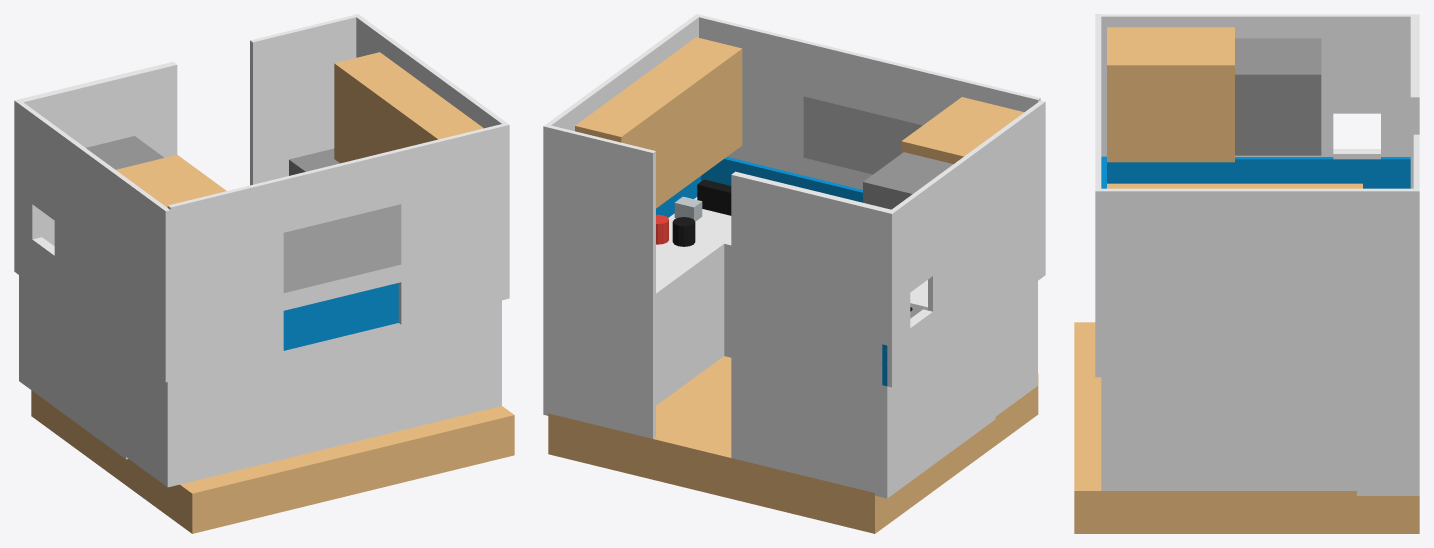
The picture shows the model from 3 angles, left to right: view 1: azimuth 30°, elevation 25°; view 2: azimuth 150°, elevation 25°; view 3: azimuth 270°, elevation 25°; orthographic projection. The views are drawn at different scales.
Parts seen in each view (by area): view 1: mesh_1779700656, mesh_645114721, mesh_1238082690, mesh_2061451972, mesh_806819140, mesh_1838078338, mesh_509994452, mesh_1269579336, mesh_1562205817, mesh_1730671391, mesh_1701763059, mesh_2054349031 (+10 smaller); view 2: mesh_1838078338, mesh_645114721, mesh_509994452, mesh_1238082690, mesh_1701763059, mesh_2054349031, mesh_1269579336, mesh_806819140, mesh_484121993, mesh_1779700656, mesh_1730671391, mesh_1562205817 (+12 smaller); view 3: mesh_922400031, mesh_645114721, mesh_363455281, mesh_484121993, mesh_1165904426, mesh_1779700656, mesh_161882219, mesh_624962709, mesh_2092229191, mesh_1238082690, mesh_806819140, mesh_1269579336 (+6 smaller).
Part boxes in pixels (left/top/right/bottom): mesh_1779700656: left=120, top=300, right=501, bottom=487; mesh_645114721: left=31, top=390, right=514, bottom=533; mesh_1238082690: left=54, top=128, right=170, bottom=382; mesh_2061451972: left=167, top=178, right=283, bottom=380; mesh_806819140: left=398, top=123, right=509, bottom=324; mesh_1838078338: left=250, top=15, right=356, bottom=185; mesh_509994452: left=19, top=275, right=128, bottom=459; mesh_1269579336: left=334, top=52, right=483, bottom=163; mesh_1562205817: left=283, top=204, right=401, bottom=292; mesh_1730671391: left=281, top=149, right=401, bottom=232; mesh_1701763059: left=113, top=62, right=177, bottom=157; mesh_2054349031: left=19, top=76, right=119, bottom=245; mesh_1838078338: left=548, top=125, right=655, bottom=438; mesh_645114721: left=548, top=356, right=1038, bottom=533; mesh_509994452: left=788, top=290, right=995, bottom=498; mesh_1238082690: left=928, top=100, right=1045, bottom=357; mesh_1701763059: left=731, top=171, right=794, bottom=472; mesh_2054349031: left=789, top=186, right=892, bottom=384; mesh_1269579336: left=575, top=37, right=742, bottom=208; mesh_806819140: left=694, top=14, right=806, bottom=175; mesh_484121993: left=656, top=230, right=724, bottom=405; mesh_1779700656: left=668, top=197, right=1037, bottom=420; mesh_1730671391: left=803, top=41, right=925, bottom=125; mesh_1562205817: left=803, top=96, right=922, bottom=174; mesh_922400031: left=1101, top=188, right=1359, bottom=377; mesh_645114721: left=1074, top=322, right=1419, bottom=533; mesh_363455281: left=1357, top=188, right=1419, bottom=495; mesh_484121993: left=1199, top=377, right=1356, bottom=490; mesh_1165904426: left=1107, top=27, right=1234, bottom=162; mesh_1779700656: left=1101, top=377, right=1202, bottom=490; mesh_161882219: left=1235, top=38, right=1321, bottom=155; mesh_624962709: left=1333, top=14, right=1419, bottom=113; mesh_2092229191: left=1107, top=157, right=1410, bottom=188; mesh_1238082690: left=1101, top=14, right=1333, bottom=156; mesh_806819140: left=1095, top=134, right=1101, bottom=377; mesh_1269579336: left=1107, top=183, right=1362, bottom=188.
Size of the model in its own units: 143 by 128 by 116.
